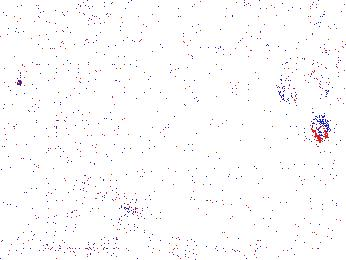flame jellyfish: (274, 56, 333, 142), (78, 164, 140, 216), (17, 162, 77, 208)
